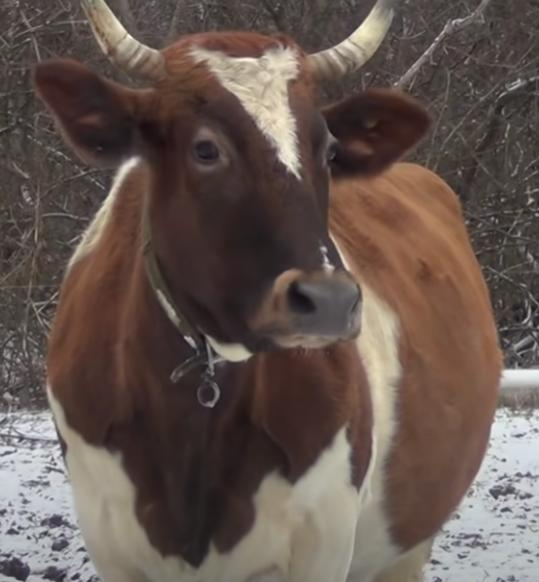cow: (28, 0, 505, 582)
